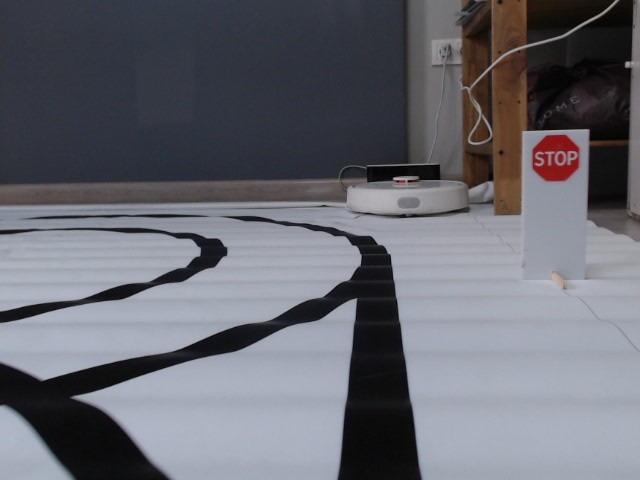Stop: (530, 133, 580, 182)
